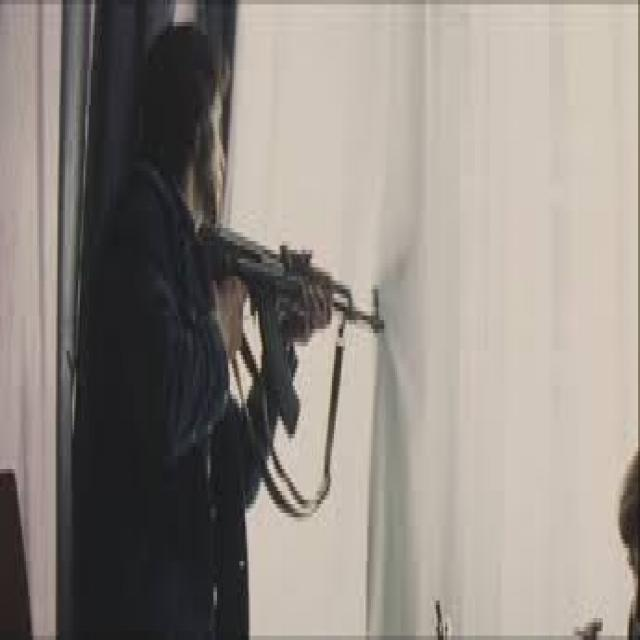weapon: (190, 221, 388, 450)
